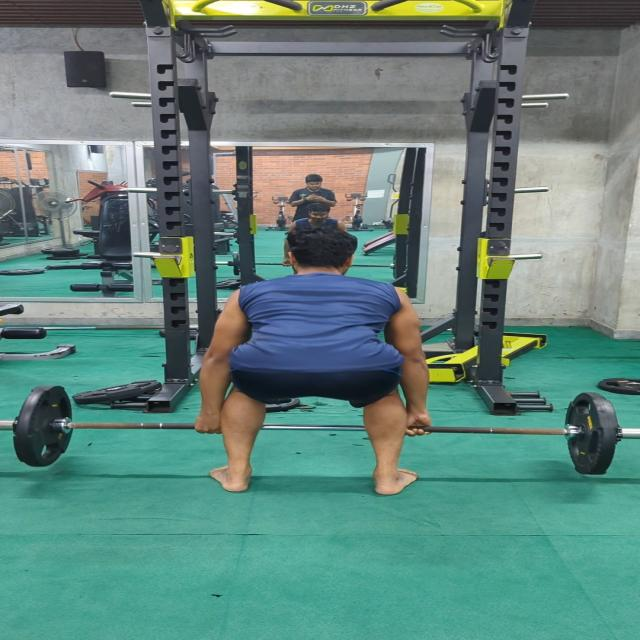Normal_Deadlifts: (196, 228, 432, 496)
